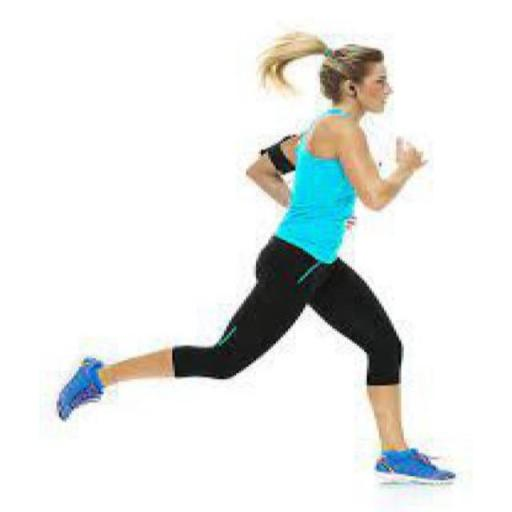Running: (123, 0, 510, 510)
